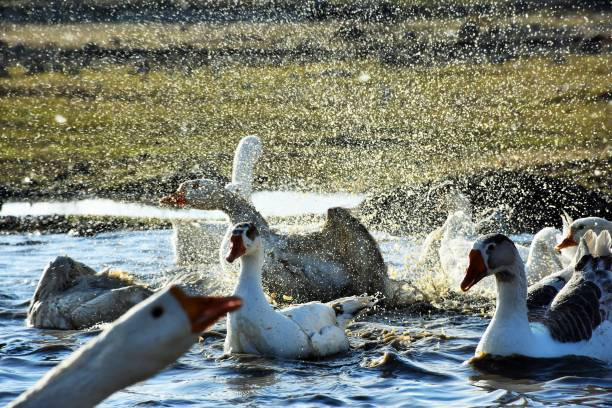goose: (162, 173, 404, 319), (1, 273, 246, 408), (209, 220, 385, 377), (448, 226, 612, 386), (169, 132, 270, 274)
